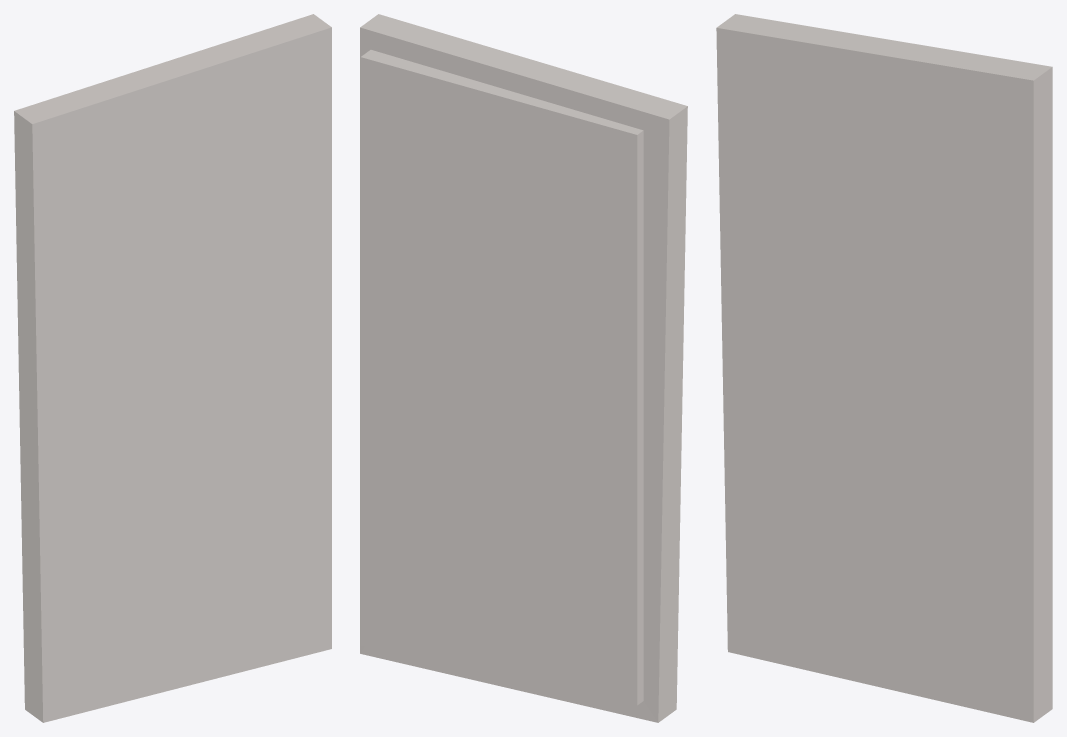
Rendered from truck-door_R.glb.
The picture shows the model from 3 angles, left to right: view 1: azimuth 30°, elevation 25°; view 2: azimuth 150°, elevation 25°; view 3: azimuth 330°, elevation 25°; orthographic projection. The views are drawn at different scales.
Parts seen in each view (by area): view 1: truck-door_R; view 2: truck-door_R; view 3: truck-door_R.
Boxes of the visible parts, x1,y1,x2,y2 form: truck-door_R: (14, 14, 331, 722); truck-door_R: (360, 14, 687, 722); truck-door_R: (716, 14, 1052, 722).
Bounding box in the file's own units: 0.9595 × 1.88 × 0.1755.
1 material, 1 textured.
